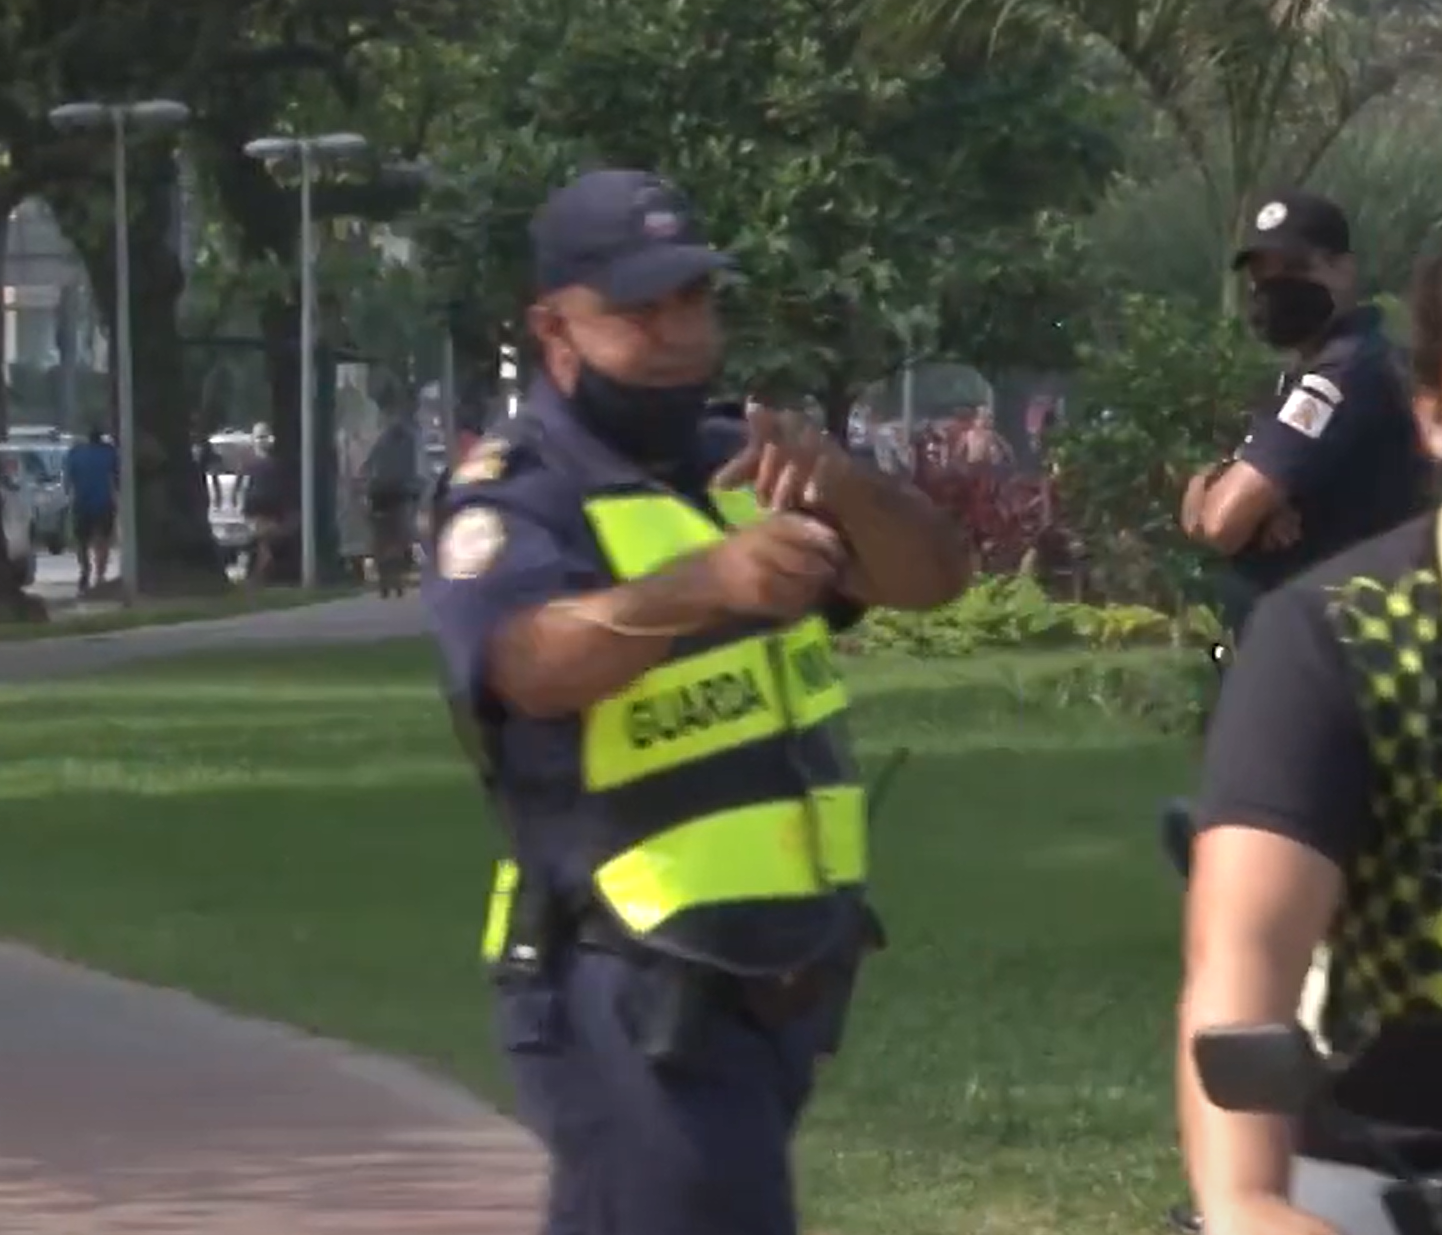mask_weared_incorrect: (516, 252, 750, 472)
